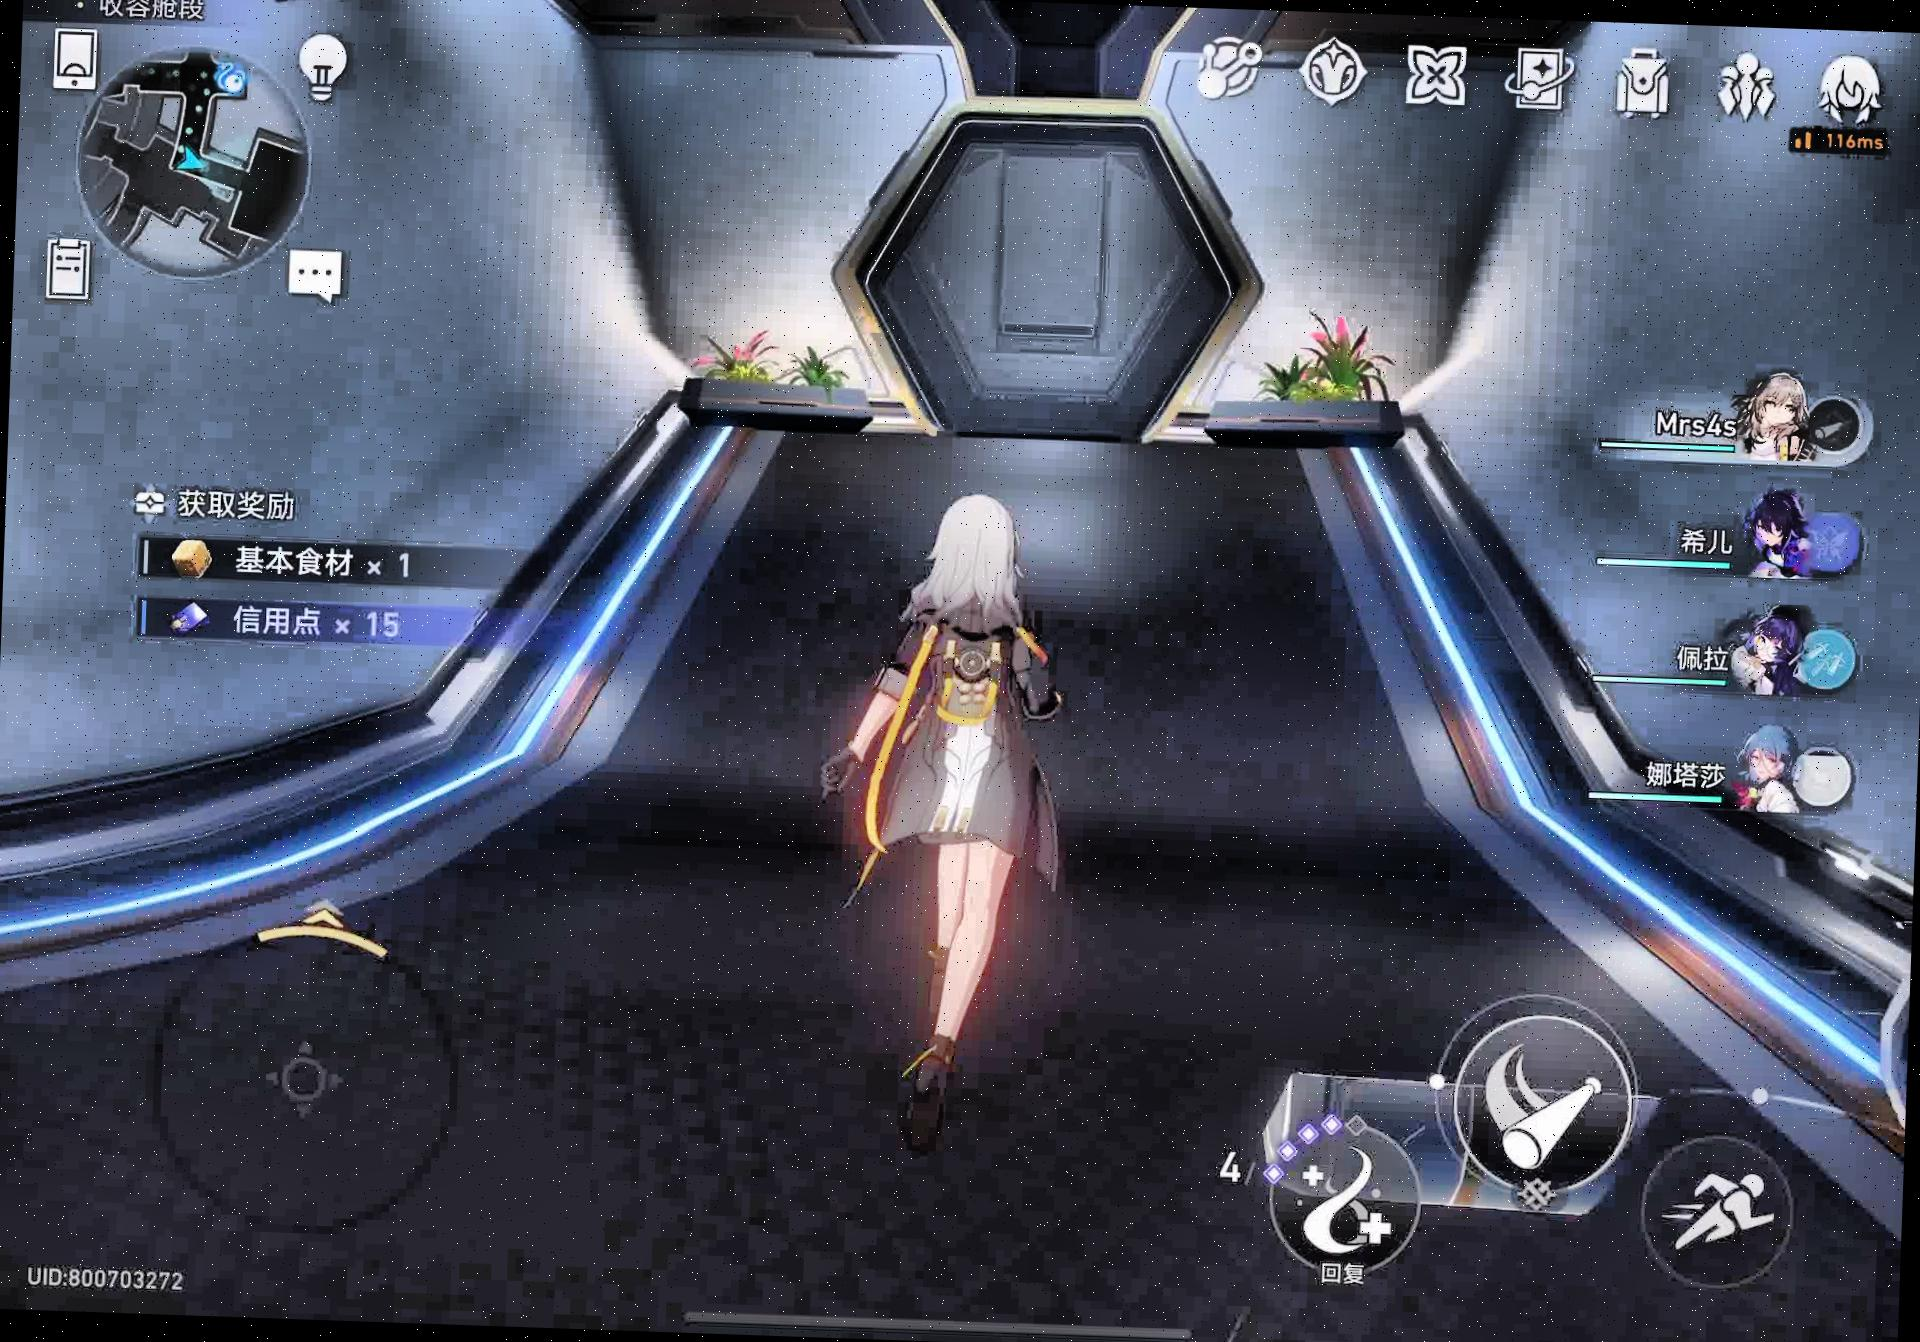Self: (816, 487, 1084, 1095)
